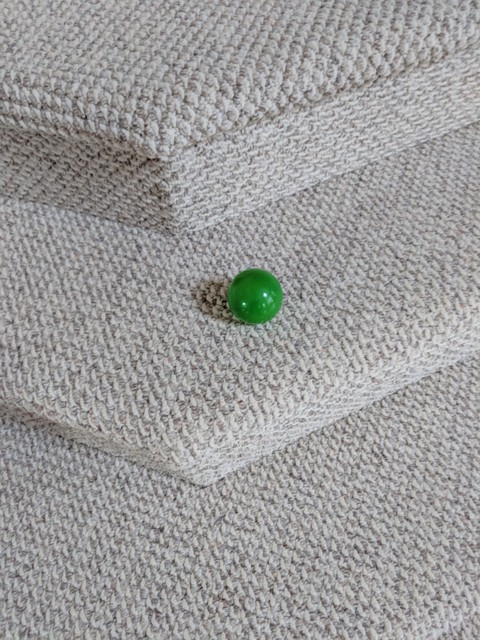ball: (228, 266, 283, 325)
